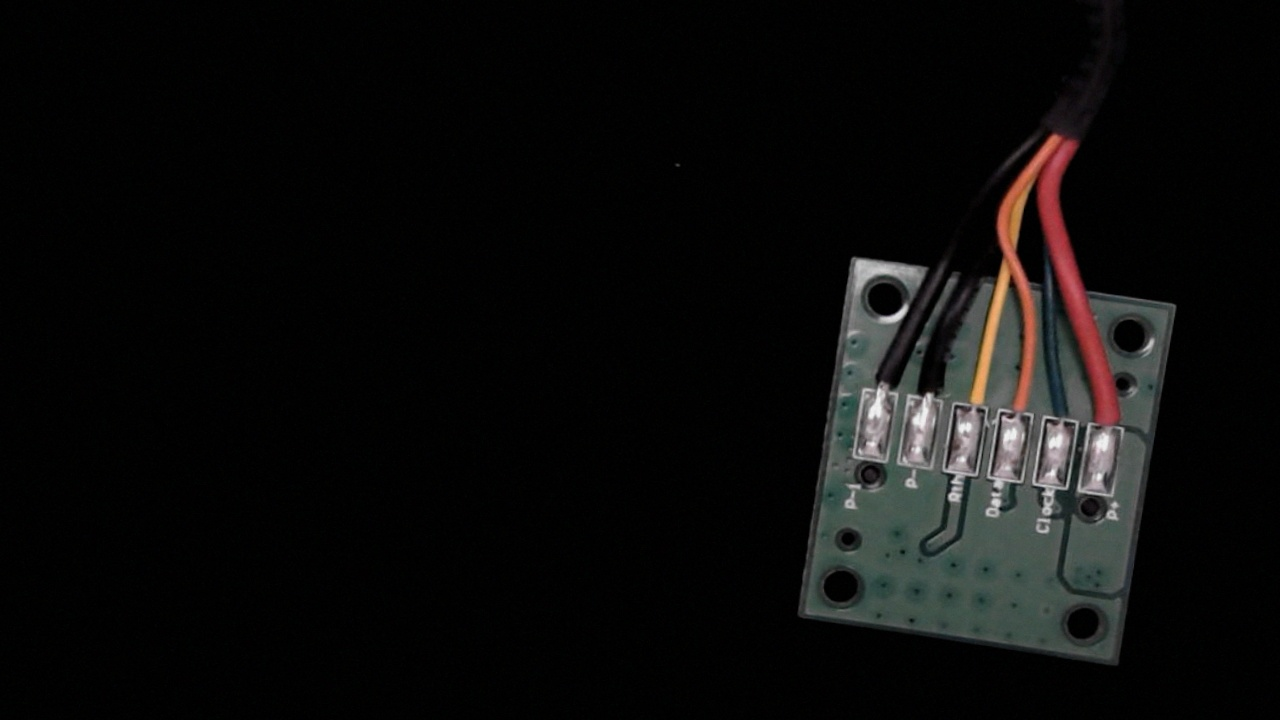Black: (907, 343, 954, 421)
Black1: (856, 333, 906, 412)
Green: (1040, 372, 1088, 447)
Orange: (997, 364, 1043, 438)
Red: (1083, 371, 1137, 454)
Yellow: (953, 348, 997, 429)
